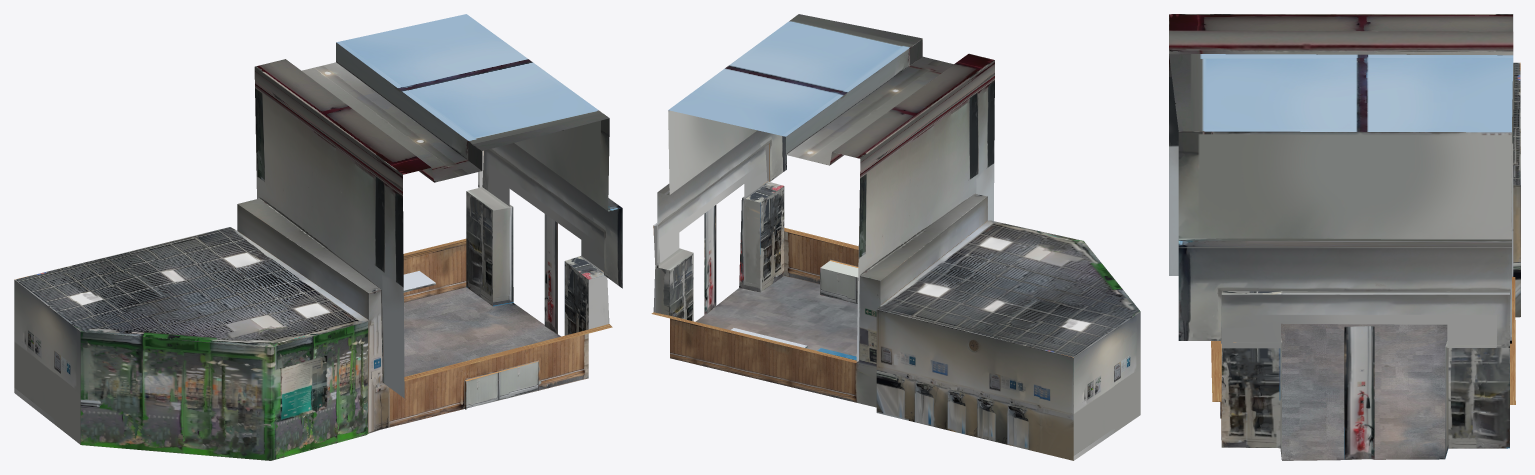
The model's file is library-bridge.fbx.
3 renders of one model, left to right at view 1: azimuth 30°, elevation 25°; view 2: azimuth 150°, elevation 25°; view 3: azimuth 270°, elevation 25°, orthographic. The views are drawn at different scales.
Parts seen in each view (by area): view 1: LP_library_bridge; view 2: LP_library_bridge; view 3: LP_library_bridge.
Boxes of the visible parts, x1=… form: LP_library_bridge: x1=14, y1=14, x2=622, y2=460; LP_library_bridge: x1=651, y1=14, x2=1140, y2=460; LP_library_bridge: x1=1169, y1=14, x2=1520, y2=460.
Size of the model in its own units: 1182 by 657 by 655.
